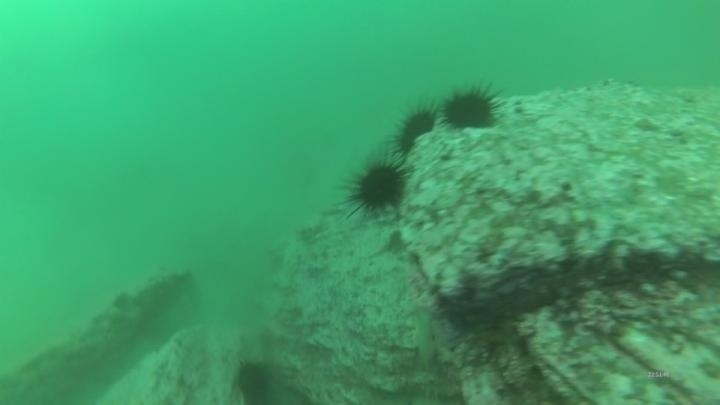echinus: (341, 154, 412, 218), (439, 82, 503, 133), (388, 102, 439, 159), (231, 358, 277, 404)
holothurian: (406, 304, 443, 371)
